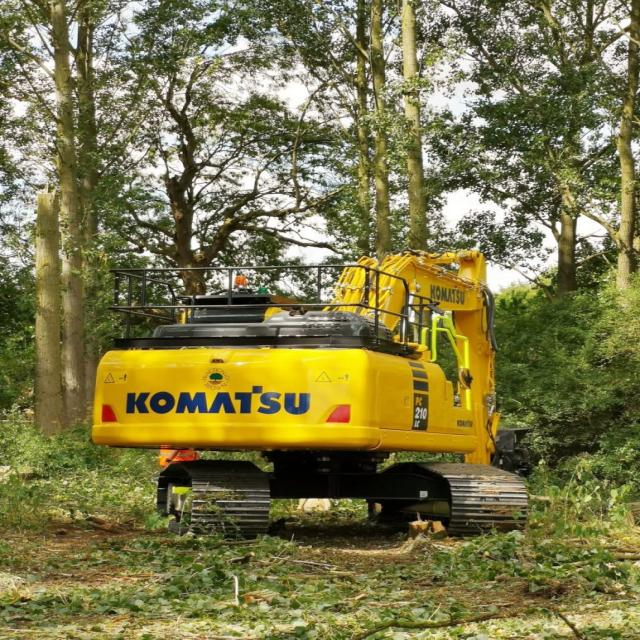excavator: (110, 227, 588, 544)
